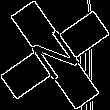N_SE: (24, 22, 86, 88)
